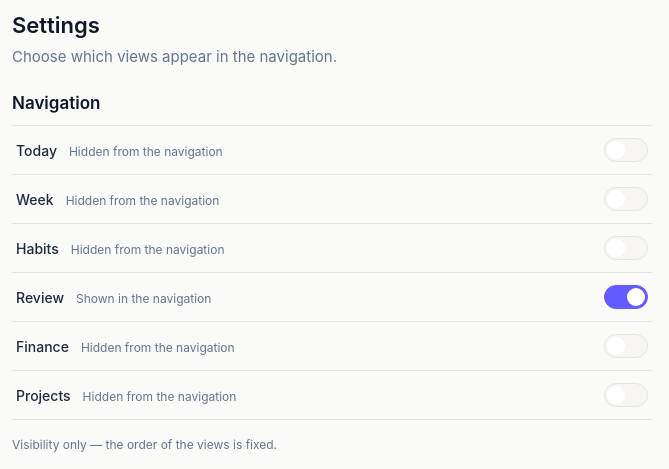
Test: SettingsView — the page › shows a hidden view again, canonically, when its switch is turned on
The image size is (669, 469).
Click the switch named "Show Today in the navigation" at (626, 150), box [604,138,648,162]
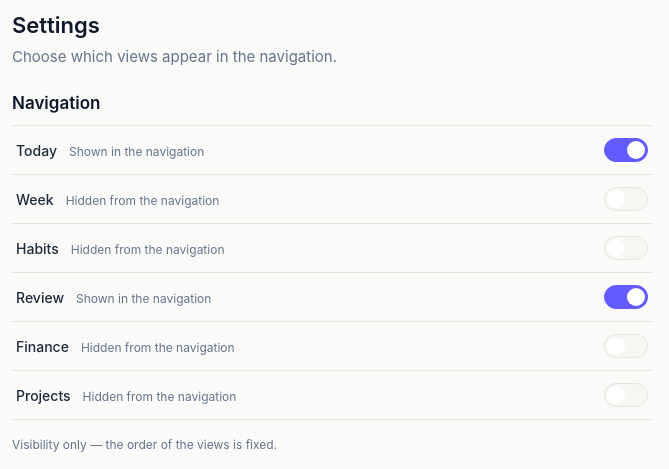
Expected: the text "Shown in the navigation" next to "Today" is shown, [69,144,204,159]
